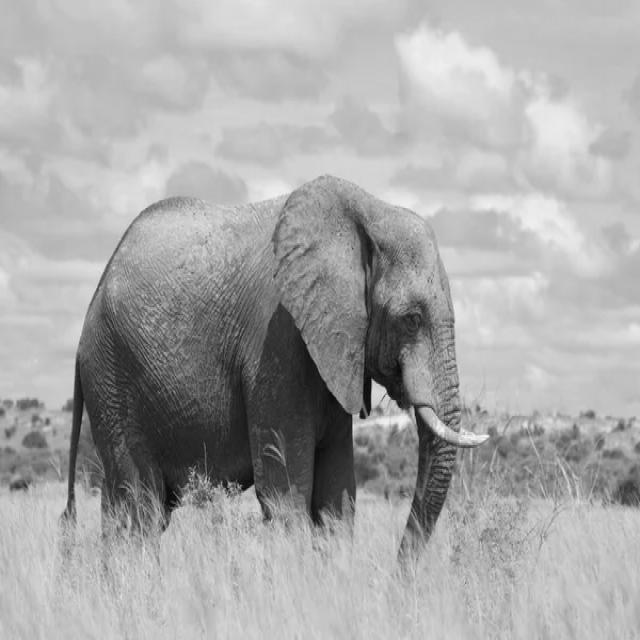Animal: (68, 176, 484, 546)
